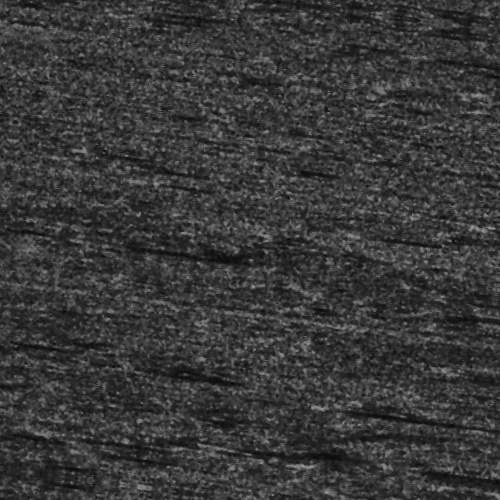object: (309, 389, 372, 398), (92, 465, 145, 472), (87, 258, 118, 263), (44, 454, 85, 457), (0, 368, 20, 373)
shadow: (340, 389, 479, 398), (119, 465, 215, 472), (103, 258, 223, 263), (0, 368, 60, 373), (65, 454, 158, 457)
